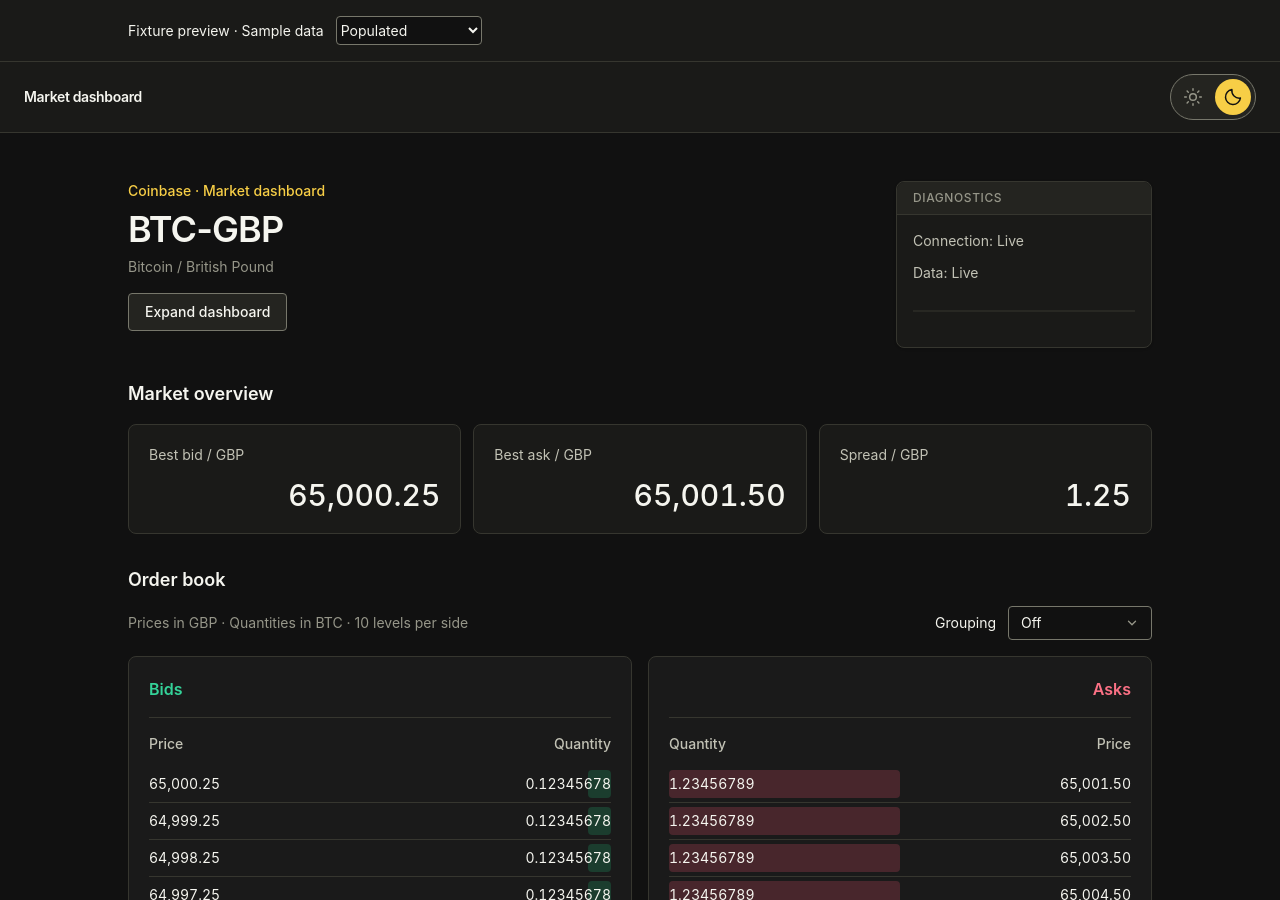
Test: applies a selection made while waiting when a book becomes available
Select "Waiting" in the dropdown labelled "Fixture preview · Sample data". click: (409, 30)
box: x1=336 y1=16 x2=482 y2=45
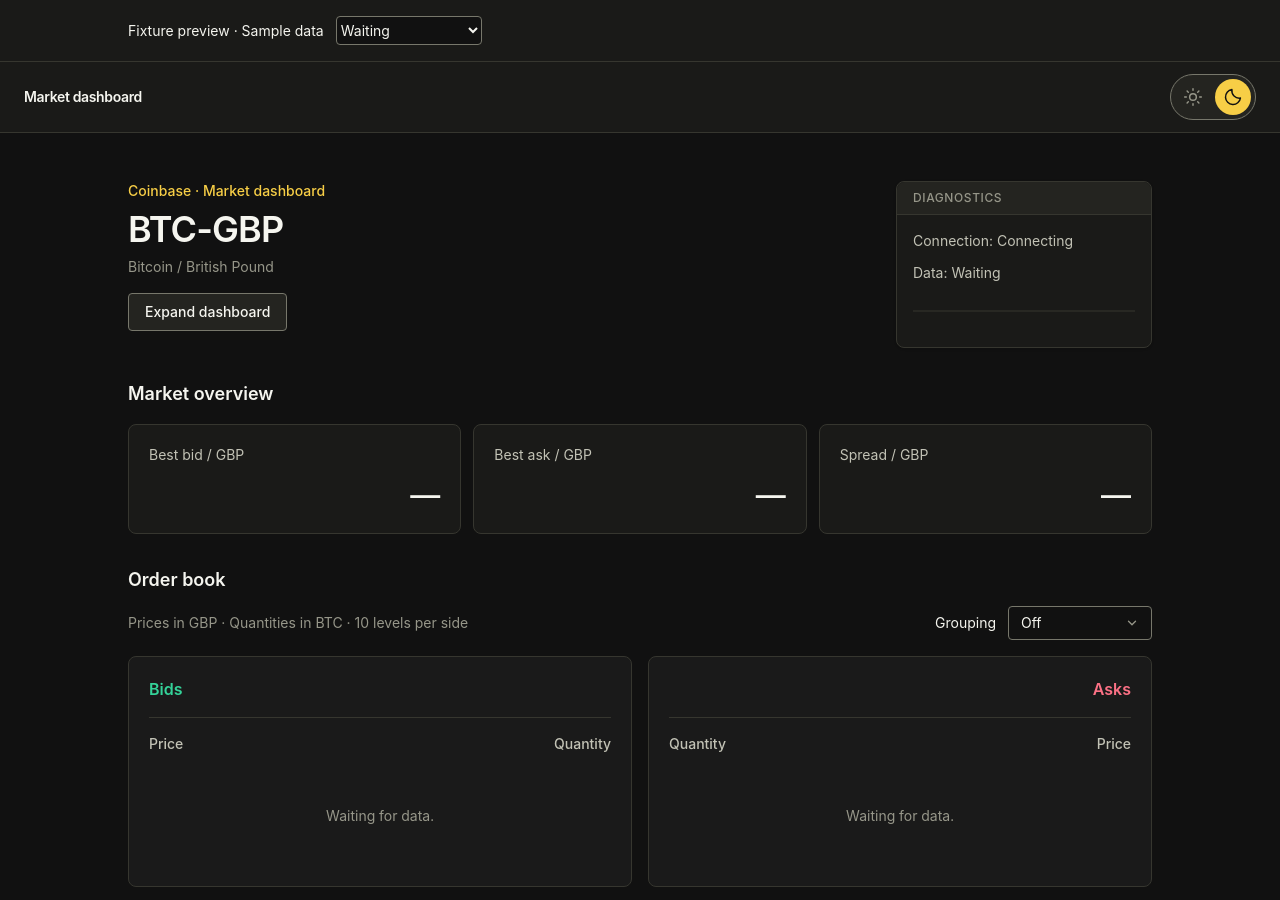
Click the dropdown named "Grouping". click: (1080, 623)
box: x1=1008 y1=606 x2=1152 y2=640
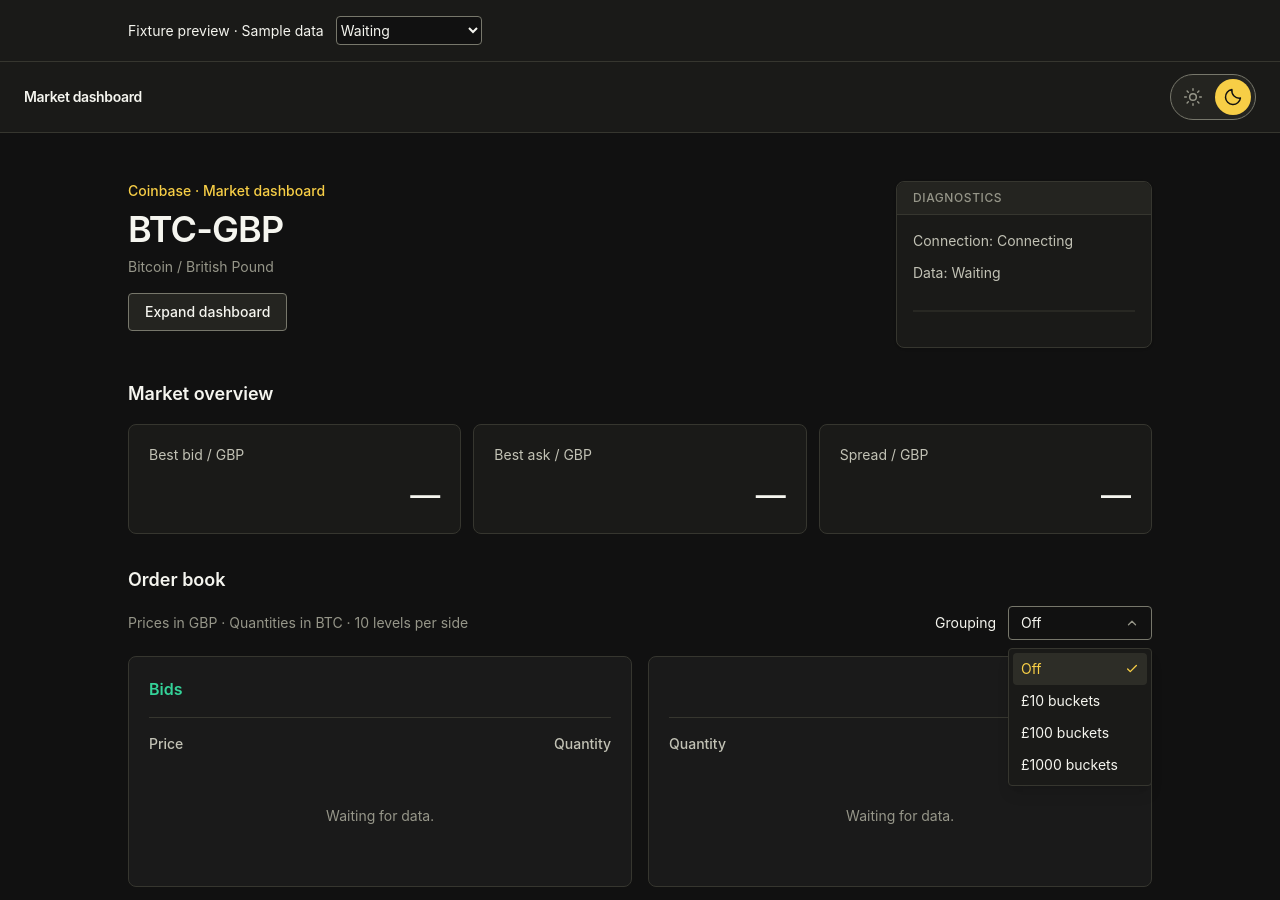
Click the option "£1000 buckets". click: (1069, 764)
box: x1=1021 y1=756 x2=1118 y2=773
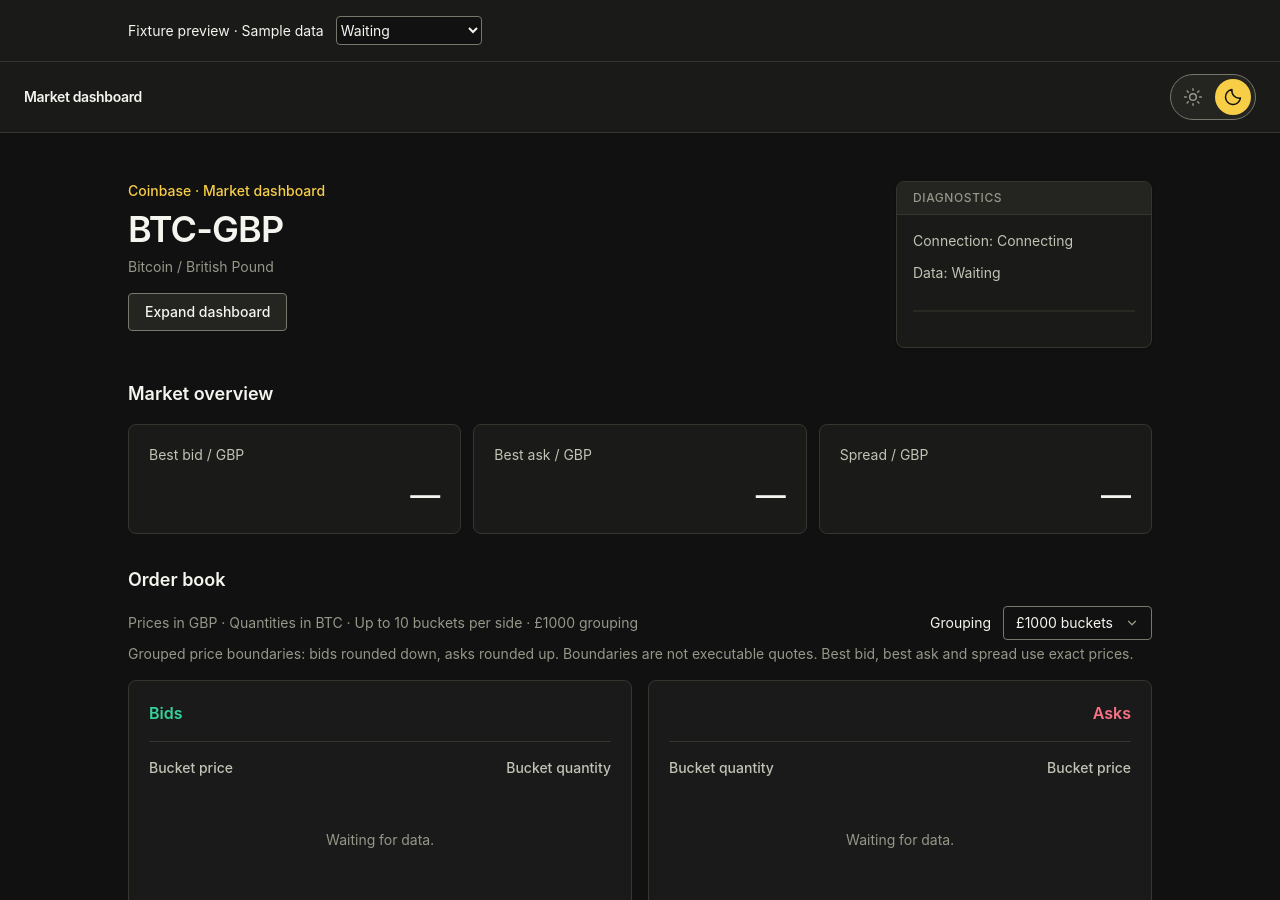
Now the text "Waiting for data." is shown 2 times, box x1=149 y1=790 x2=611 y2=890; x1=669 y1=790 x2=1131 y2=890
Select "Populated" in the dropdown labelled "Fixture preview · Sample data". click: (409, 30)
box: x1=336 y1=16 x2=482 y2=45
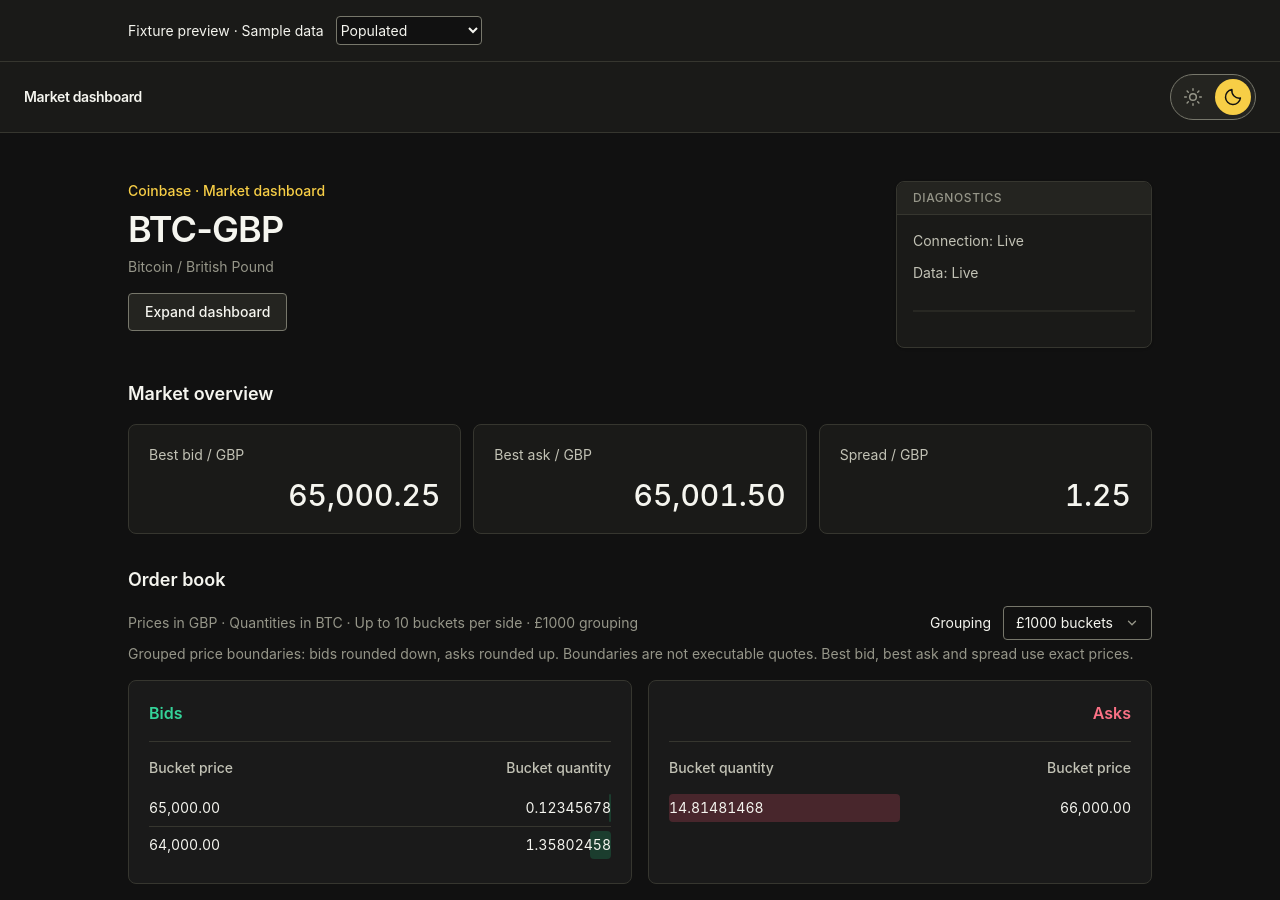
Now the text "£1000 grouping" is shown, box x1=355 y1=614 x2=638 y2=631
Now the cell "66,000.00" is shown, box x1=900 y1=790 x2=1131 y2=826
Now the cell "14.81481468" is shown, box x1=669 y1=790 x2=900 y2=826
